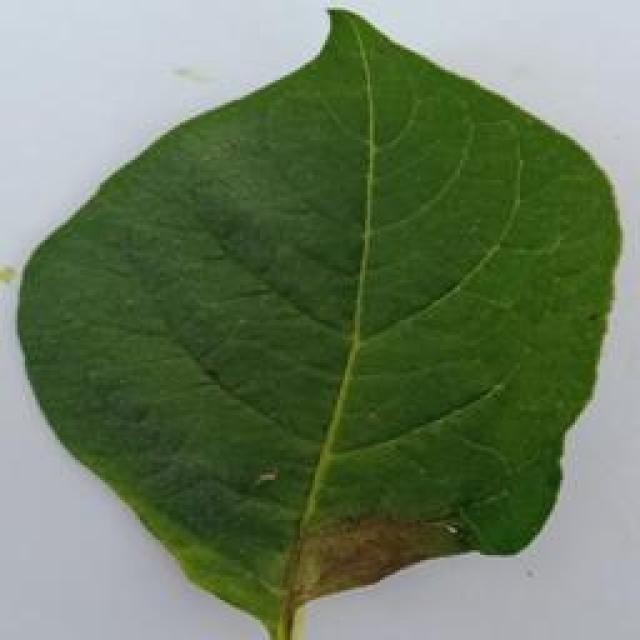Potato_Late_Blight: (16, 2, 632, 630)
